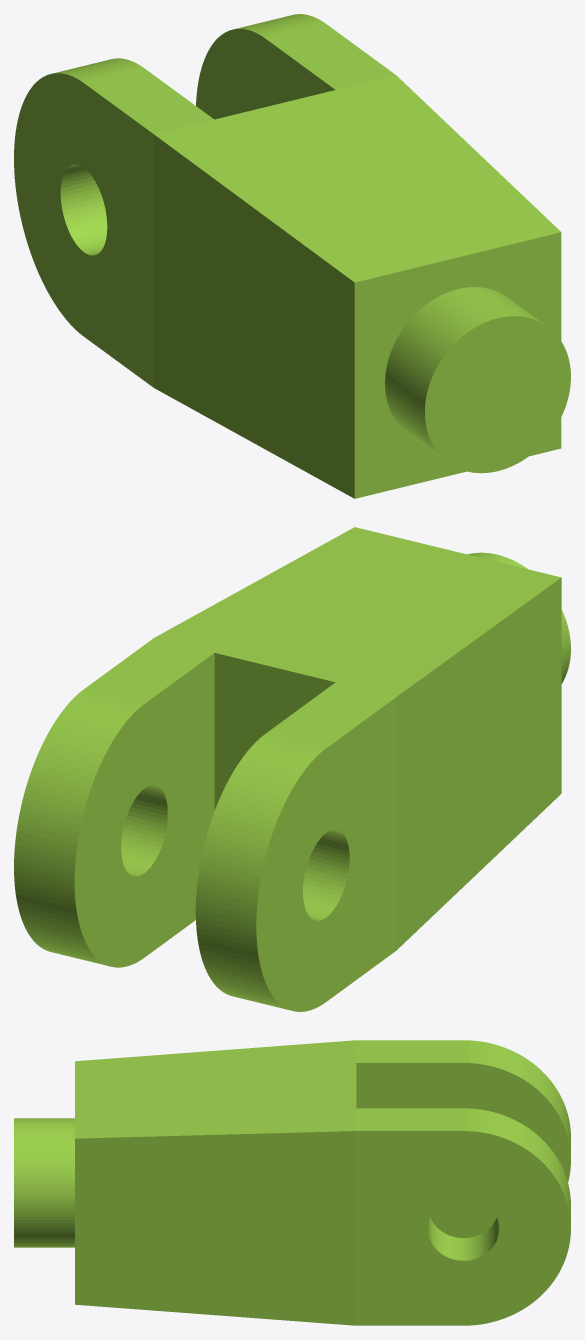
The picture shows the model from 3 angles, top to bottom: view 1: azimuth 30°, elevation 25°; view 2: azimuth 150°, elevation 25°; view 3: azimuth 270°, elevation 25°; orthographic projection. The views are drawn at different scales.
Visible parts, largest first — view 1: node; view 2: node; view 3: node.
Boxes of the visible parts, x1=… form: node: x1=14, y1=14, x2=570, y2=498; node: x1=14, y1=527, x2=570, y2=1011; node: x1=14, y1=1040, x2=570, y2=1325.
Size of the model in its own units: 0.0573 by 0.0573 by 0.1486.
